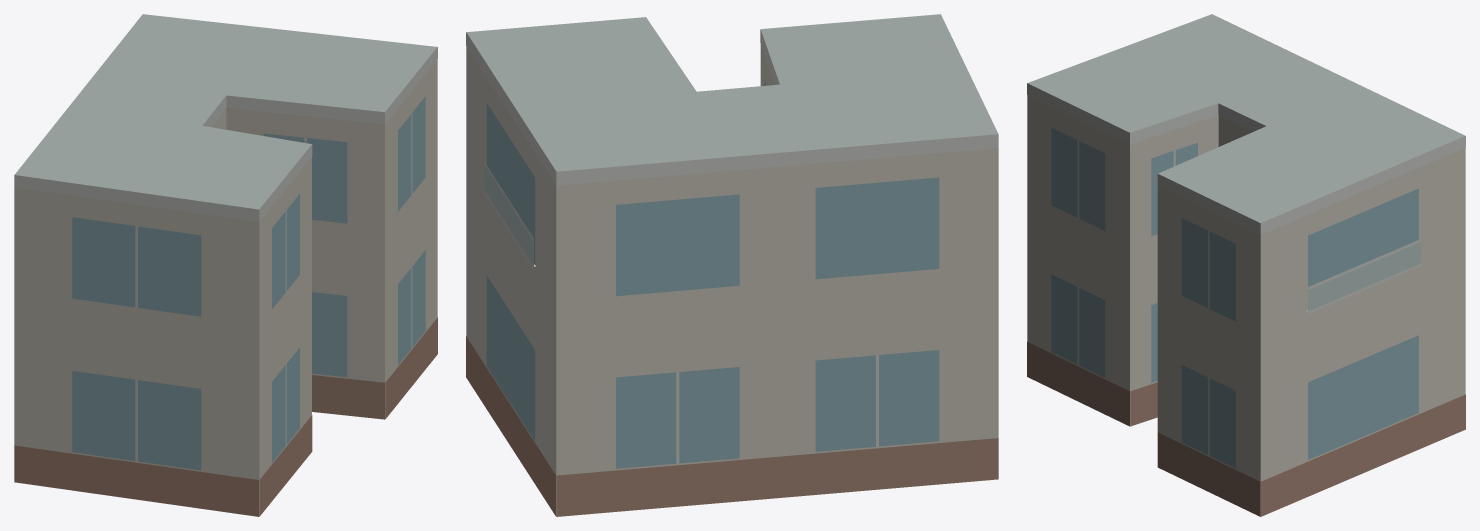
Rendered from survey-upis-32467703.glb.
3 views of the same model, side by side, from view 1: azimuth 30°, elevation 25°; view 2: azimuth 150°, elevation 25°; view 3: azimuth 270°, elevation 25° (orthographic). The views are drawn at different scales.
Visible parts, largest first — view 1: survey-upis-32467703.tmp; view 2: survey-upis-32467703.tmp; view 3: survey-upis-32467703.tmp.
Part boxes in pixels (x1,y1,x2,y2): survey-upis-32467703.tmp: (14, 14, 437, 516); survey-upis-32467703.tmp: (466, 14, 998, 516); survey-upis-32467703.tmp: (1027, 14, 1465, 516).
Bounding box in the file's own units: 9.33 × 6.1 × 8.26.
